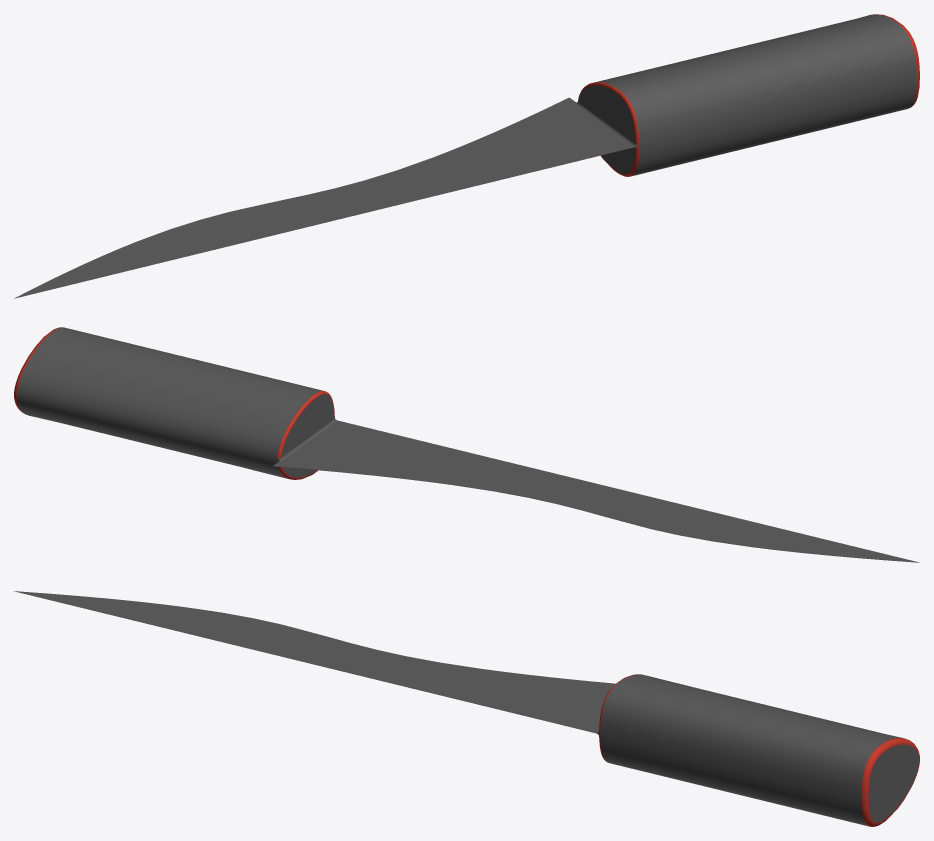
File: CouteauPPE_v1.fbx
The picture shows the model from 3 angles, top to bottom: view 1: azimuth 30°, elevation 25°; view 2: azimuth 150°, elevation 25°; view 3: azimuth 330°, elevation 25°; orthographic projection. The views are drawn at different scales.
Parts seen in each view (by area): view 1: Body2; view 2: Body2; view 3: Body2.
Boxes of the visible parts, x1=… form: Body2: x1=14, y1=14, x2=919, y2=298; Body2: x1=14, y1=327, x2=919, y2=562; Body2: x1=14, y1=591, x2=919, y2=826.
Size of the model in its own units: 1750 by 153 by 225.
